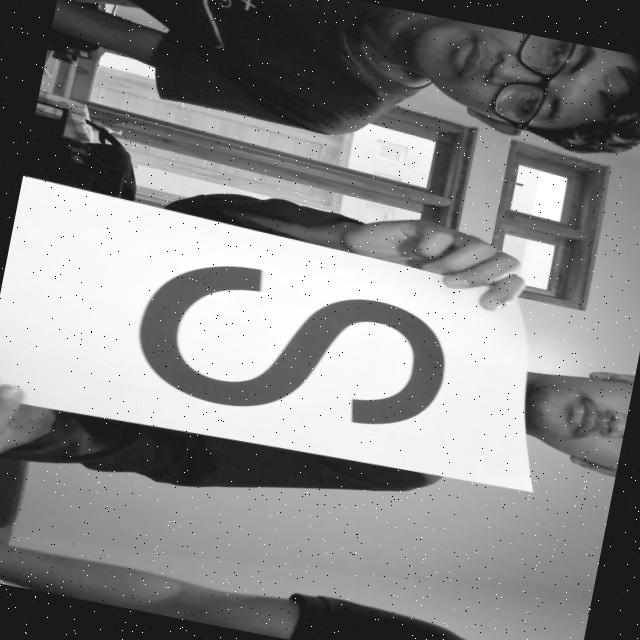s: (114, 242, 467, 456)
